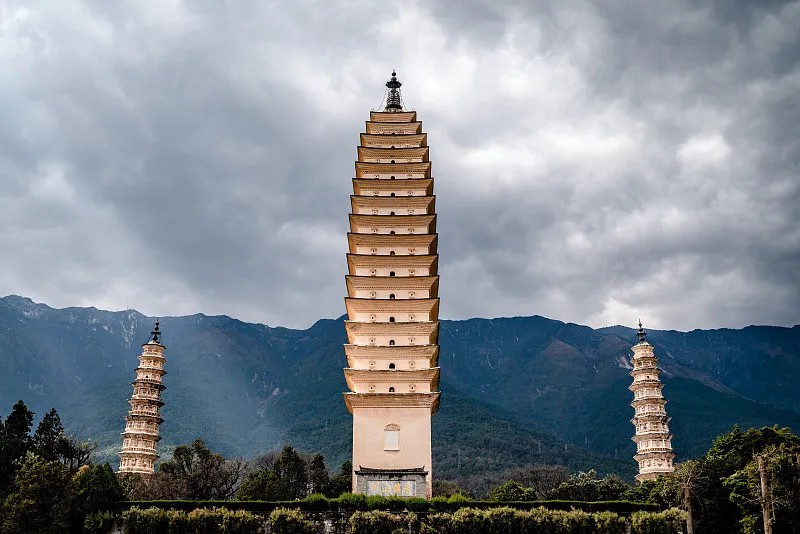ThreePagoda: (342, 70, 440, 498)
